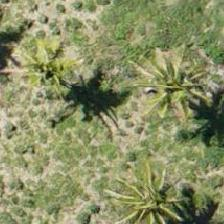coconut_tree: (134, 38, 223, 128), (0, 25, 89, 115), (105, 154, 195, 223)
